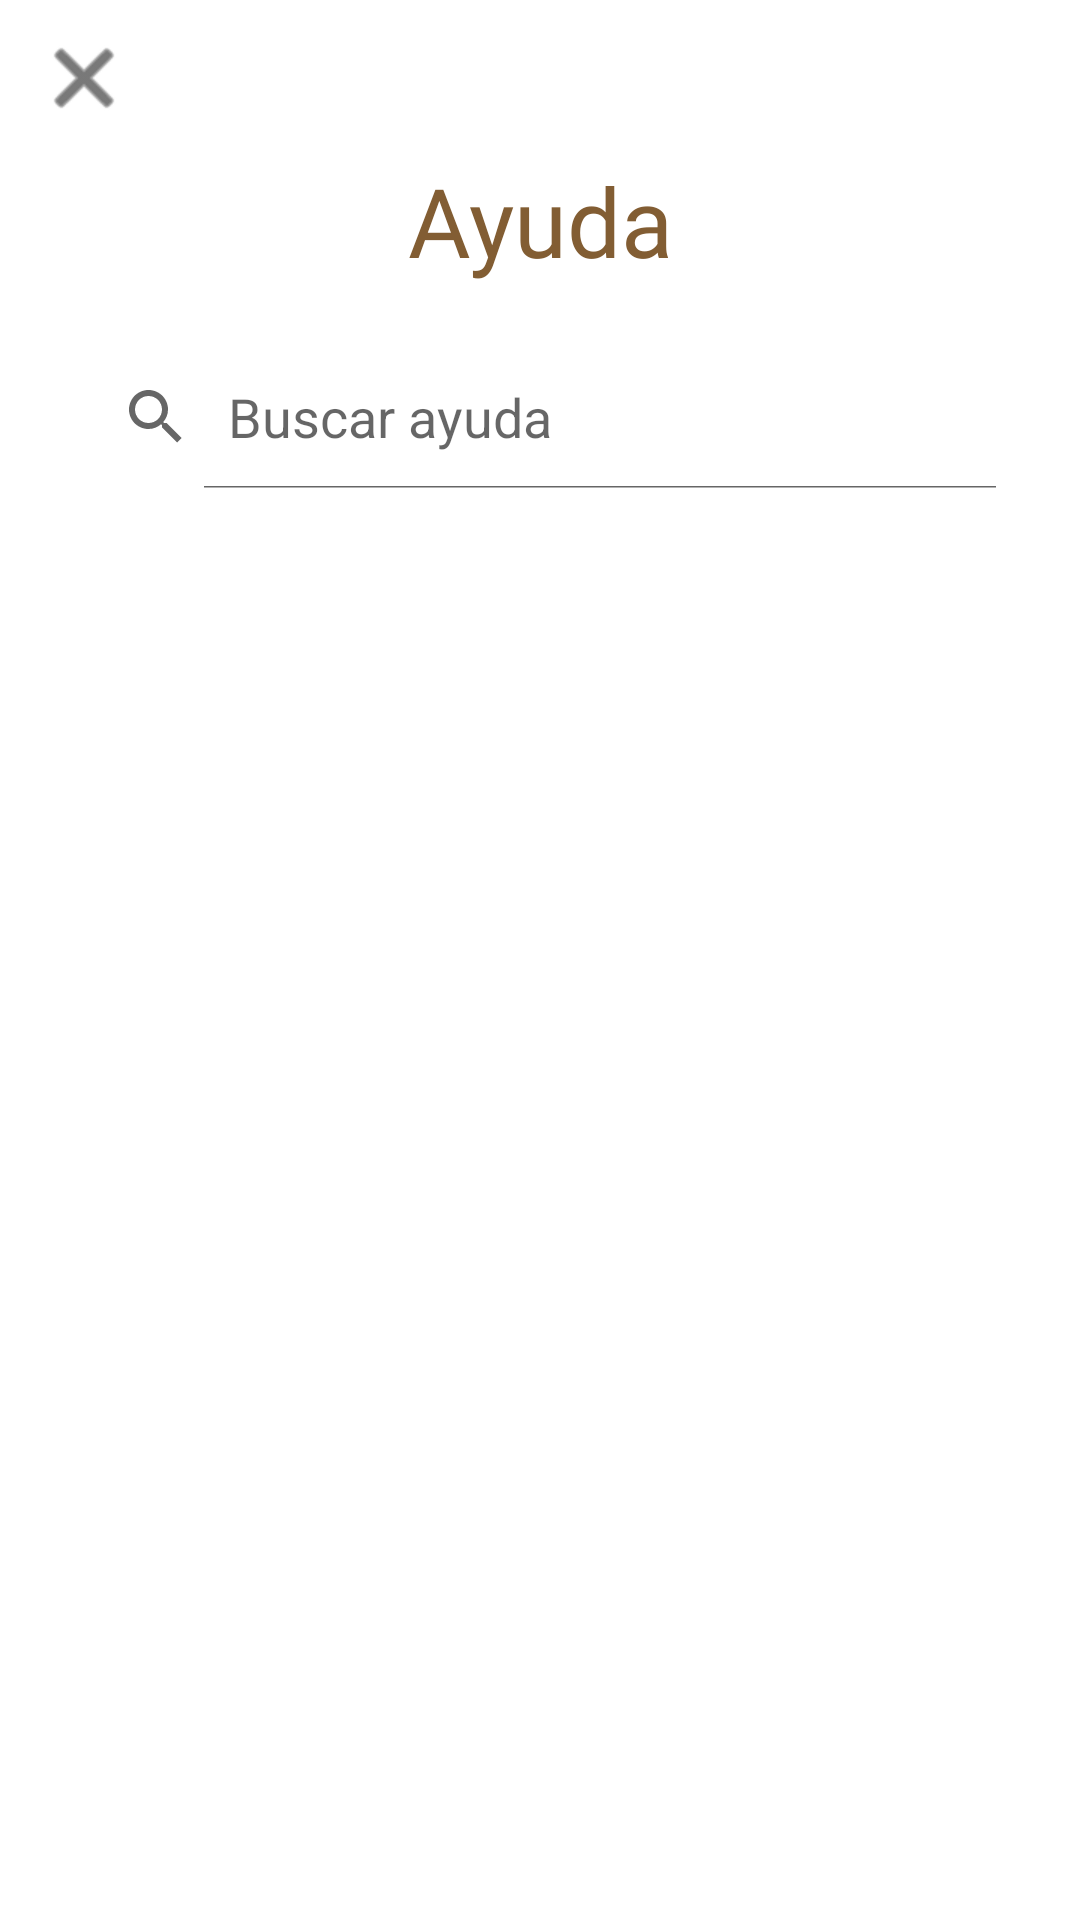

Named icons in this screenshot (1080 × 1920) and their bounding boxes, bbox(x1, y1, x2, y2):
close clear cancel: bbox(54, 48, 114, 108)
